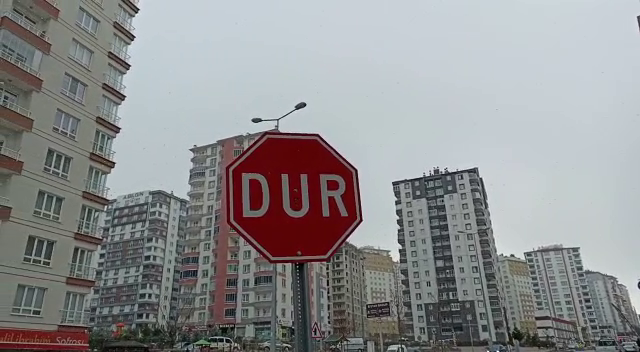stop: (222, 128, 367, 267)
